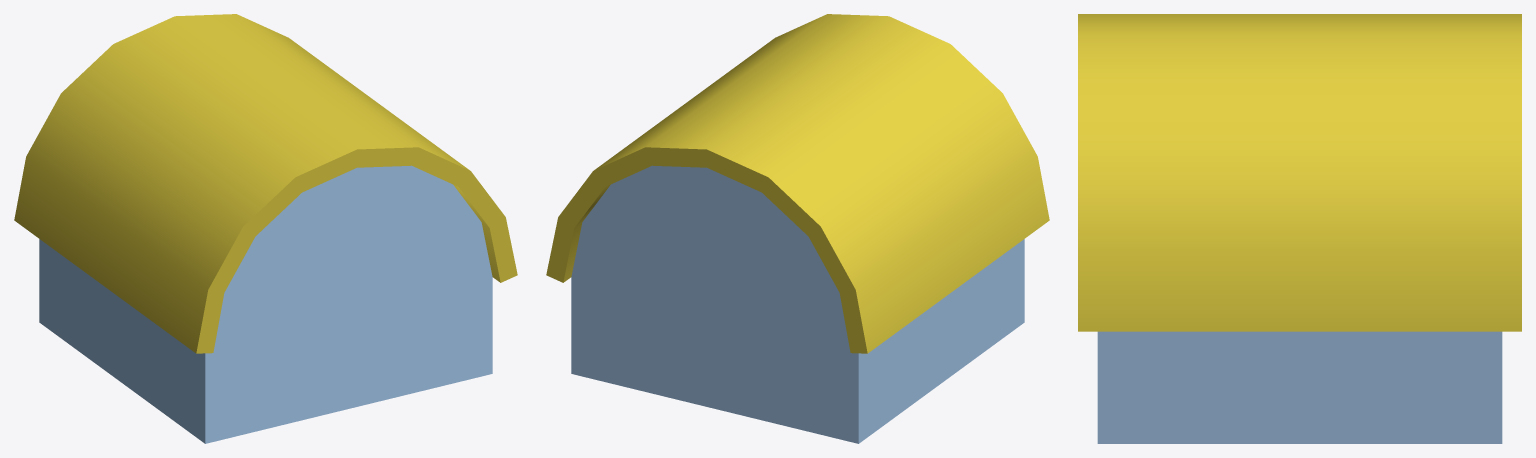
The model's file is Map-House-R-Lv1-Y.fbx.
3 views of the same model, side by side, from view 1: azimuth 30°, elevation 25°; view 2: azimuth 150°, elevation 25°; view 3: azimuth 270°, elevation 25° (orthographic). The views are drawn at different scales.
Parts seen in each view (by area): view 1: Map-House-R-Lv1-Y; view 2: Map-House-R-Lv1-Y; view 3: Map-House-R-Lv1-Y.
Boxes of the visible parts, x1,y1,x2,y2 form: Map-House-R-Lv1-Y: [14, 14, 517, 443]; Map-House-R-Lv1-Y: [546, 14, 1049, 443]; Map-House-R-Lv1-Y: [1078, 14, 1521, 443].
Bounding box in the file's own units: 1.34 × 1.06 × 1.32.
